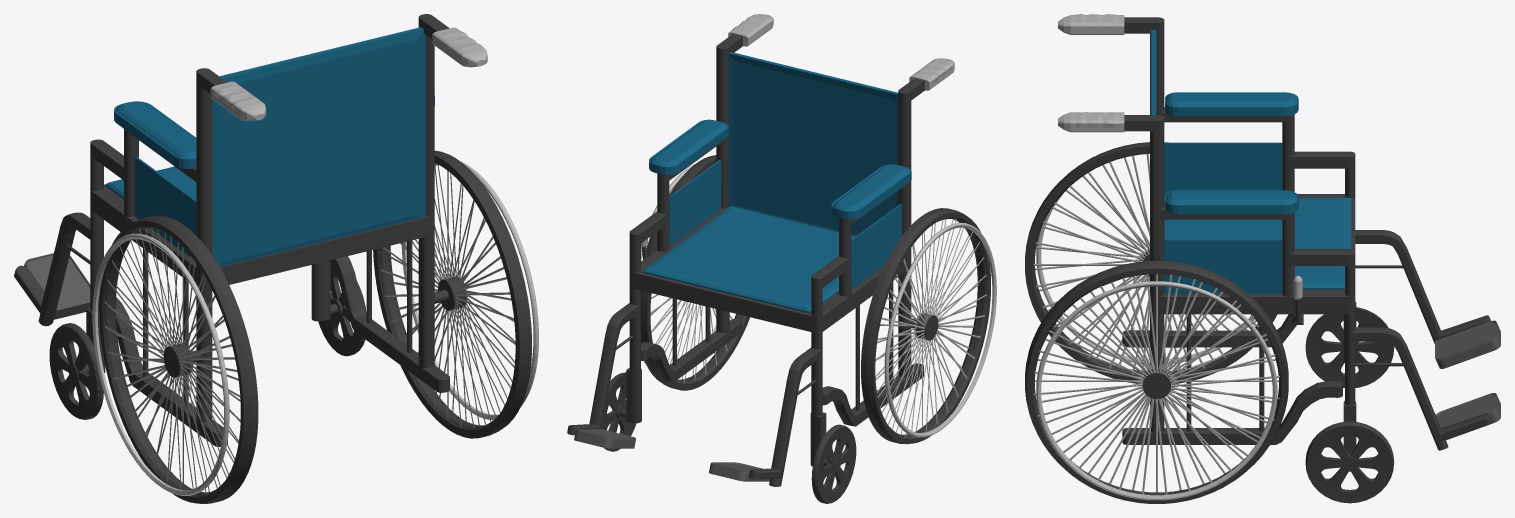
The model's file is WheelCha3.fbx.
The picture shows the model from 3 angles, left to right: view 1: azimuth 30°, elevation 25°; view 2: azimuth 150°, elevation 25°; view 3: azimuth 270°, elevation 25°; orthographic projection. The views are drawn at different scales.
Visible parts, largest first — view 1: BackPanel, Cracas1, Wheel_Big_R, Wheel_Lines, Wheel_Arm, Wheel_Small_R, ArmHolder, SidePanel, ArmHolder.001, LegPlane, Cark2, Wheel_Center (+3 smaller); view 2: Cracas1, BackPanel, SeatPanel, Wheel_Big_R, Wheel_Lines, SidePanel, ArmHolder, Wheel_Small_R, Wheel_Arm, LegPlane, ArmHolder.001, Cark2 (+2 smaller); view 3: Cracas1, Wheel_Lines, Wheel_Big_R, SidePanel, Wheel_Small_R, SeatPanel, ArmHolder, Wheel_Arm, LegPlane, ArmHolder.001, Wheel_Center, Cark2 (+1 smaller).
Boxes of the visible parts, x1,y1,x2,y2 form: BackPanel: (212, 27, 425, 266); Cracas1: (14, 14, 449, 446); Wheel_Big_R: (99, 150, 531, 503); Wheel_Lines: (104, 163, 515, 495); Wheel_Arm: (92, 161, 538, 495); Wheel_Small_R: (49, 264, 366, 419); ArmHolder: (114, 96, 434, 168); SidePanel: (134, 156, 196, 259); ArmHolder.001: (210, 27, 487, 121); LegPlane: (24, 253, 90, 319); Cark2: (86, 261, 330, 374); Wheel_Center: (163, 276, 467, 377); Cracas1: (567, 34, 924, 486); BackPanel: (728, 52, 898, 236); SeatPanel: (642, 206, 855, 313); Wheel_Big_R: (641, 155, 990, 444); Wheel_Lines: (650, 218, 986, 437); SidePanel: (669, 160, 901, 289); ArmHolder: (649, 119, 911, 219); Wheel_Small_R: (601, 372, 856, 503); Wheel_Arm: (641, 164, 996, 437); LegPlane: (574, 429, 769, 481); ArmHolder.001: (728, 14, 954, 90); Cark2: (626, 368, 826, 466); Cracas1: (1122, 17, 1492, 450); Wheel_Lines: (1033, 154, 1279, 494); Wheel_Big_R: (1025, 142, 1288, 503); SidePanel: (1164, 142, 1282, 293); Wheel_Small_R: (1305, 307, 1394, 503); SeatPanel: (1164, 197, 1351, 289); ArmHolder: (1165, 92, 1298, 214); Wheel_Arm: (1036, 191, 1277, 500); LegPlane: (1435, 320, 1500, 440); ArmHolder.001: (1058, 14, 1124, 132); Wheel_Center: (1142, 249, 1171, 398); Cark2: (1343, 301, 1356, 452).
Size of the model in its own units: 102 by 130 by 148.
